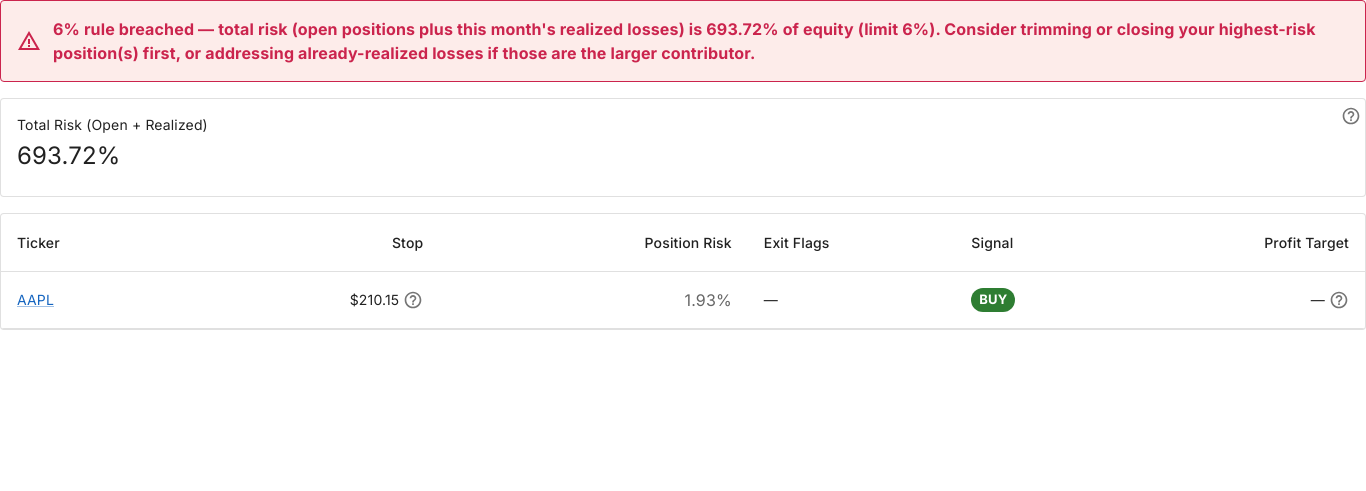
it: RiskPanel › opens the Total Risk help popover with the open-vs-realized breakdown text (totalRiskHelp)
Expected: the text "693.72%" is shown, [17,141,120,170]
Click the button named "Total Risk (Open + Realized) help". click: [1351, 116]
box: [1341,106,1361,126]
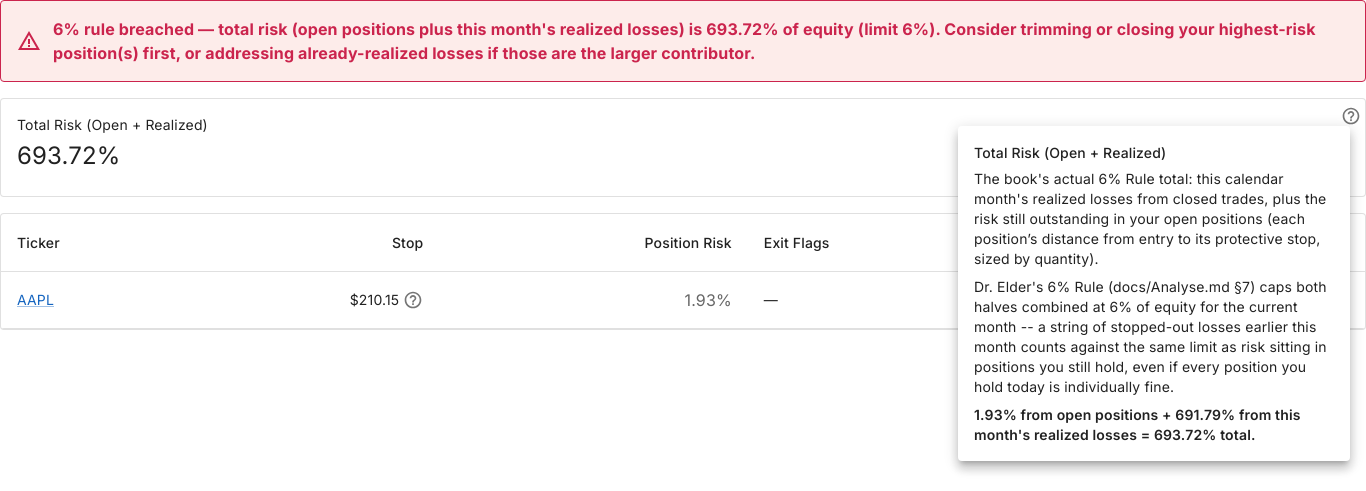
Result: the text "1.93% from open positions + 691.79% from this month's realized losses = 693.72% total." is shown at [974,406,1301,443]
